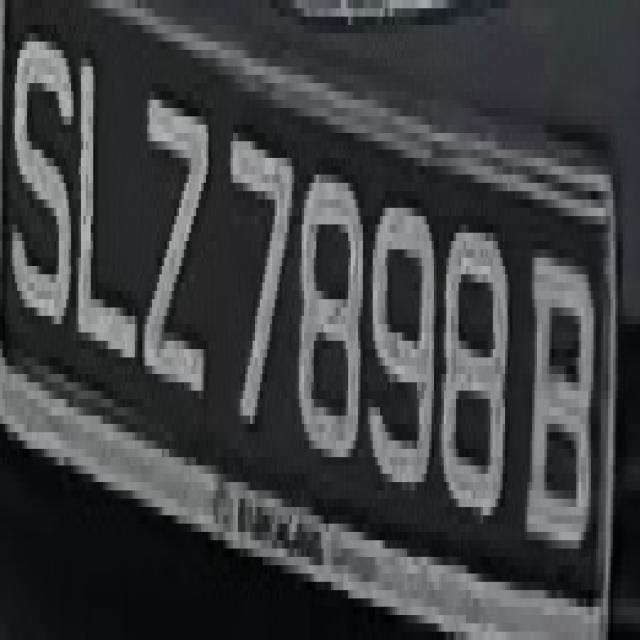7: (218, 75, 299, 465)
8: (300, 124, 366, 524), (437, 191, 508, 557)
9: (373, 158, 446, 540)
B: (528, 225, 598, 590)
L: (76, 50, 145, 391)
S: (5, 17, 76, 340)
Z: (147, 33, 221, 424)
